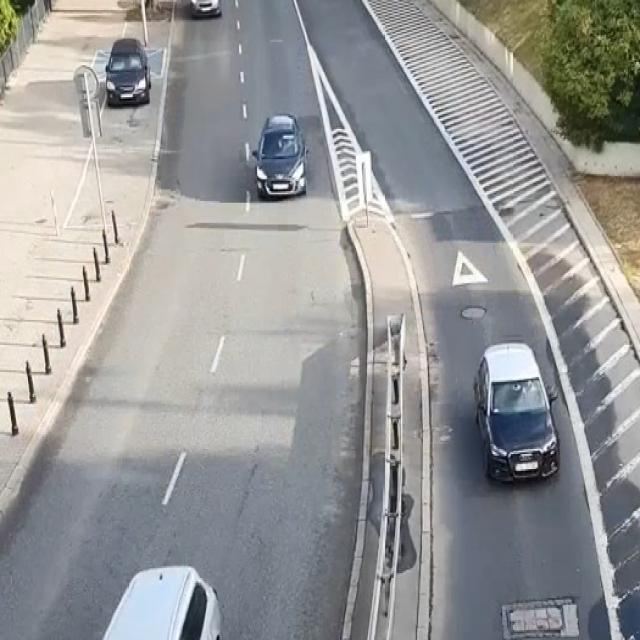car: (475, 344, 559, 481), (102, 566, 221, 639), (252, 114, 306, 197), (105, 39, 150, 104)
